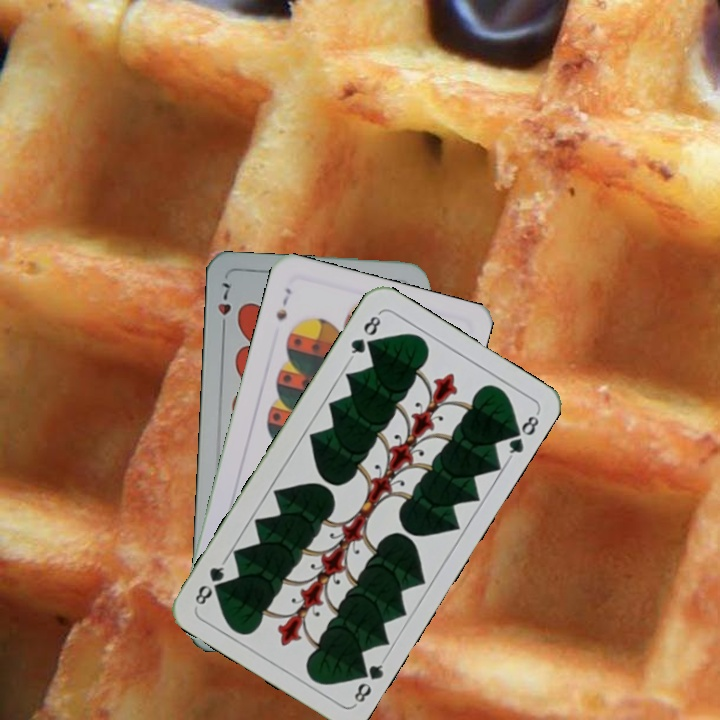G8: (346, 309, 384, 362), (350, 654, 389, 705)
H7: (213, 278, 234, 335)
S7: (272, 284, 294, 323)
